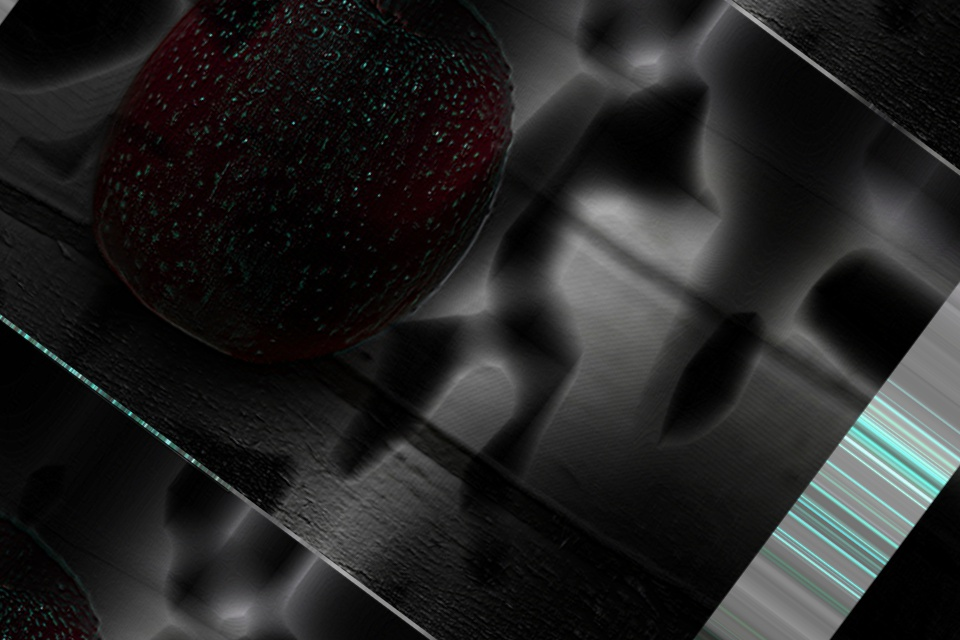apple: (0, 0, 637, 494)
